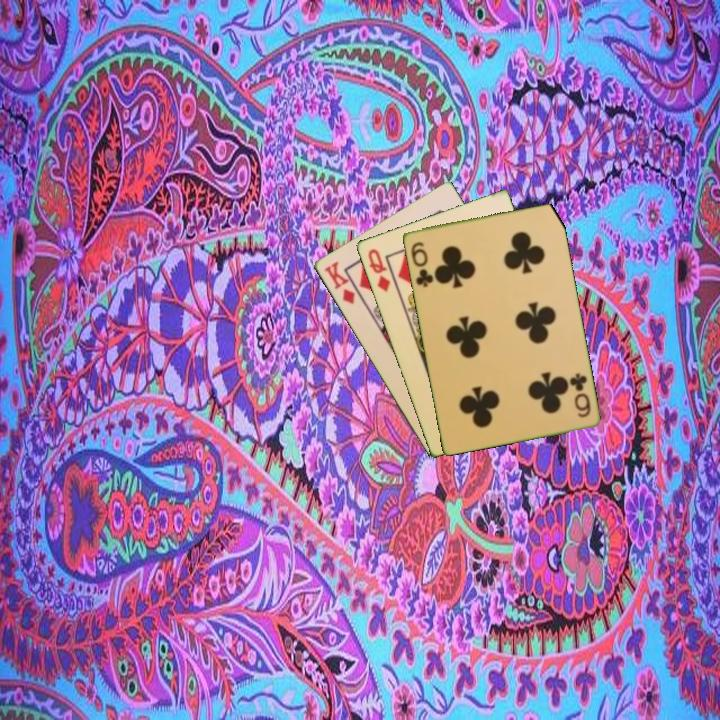6c: (407, 238, 436, 290), (566, 369, 593, 420)
Kd: (320, 258, 358, 307)
Qd: (364, 245, 393, 295)
